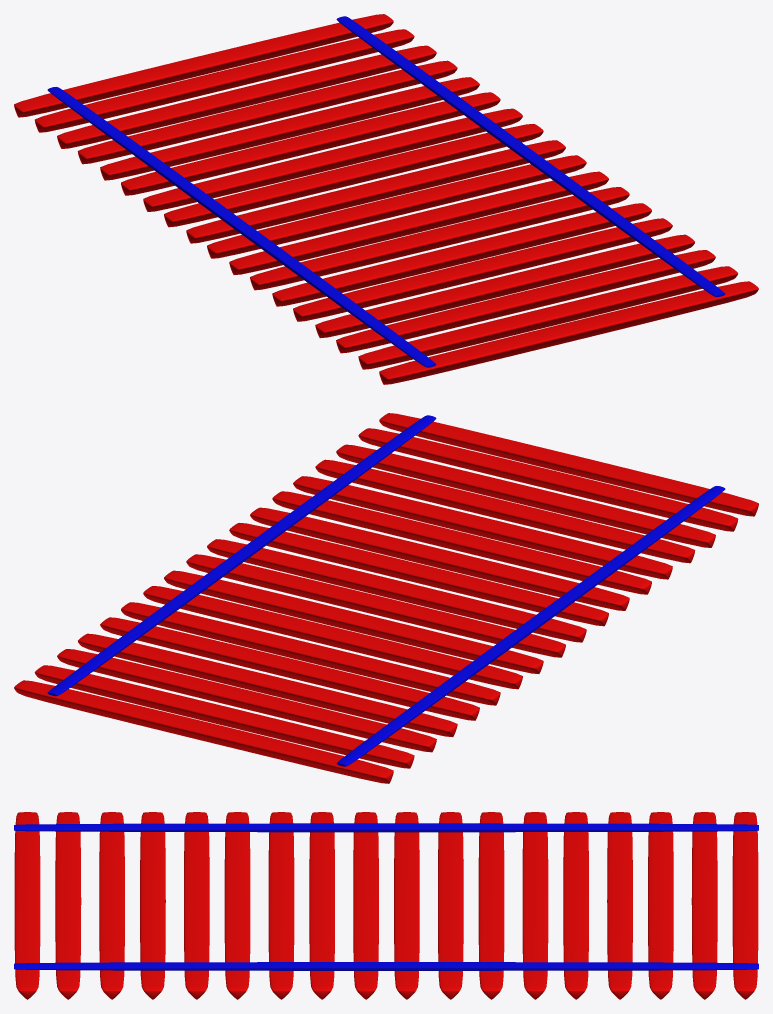
Rendered from Makisu_1_high.fbx.
3 views of the same model, one above another, from view 1: azimuth 30°, elevation 25°; view 2: azimuth 150°, elevation 25°; view 3: azimuth 270°, elevation 25° (orthographic).
Parts seen in each view (by area): view 1: Makisu_1_high; view 2: Makisu_1_high; view 3: Makisu_1_high.
Boxes of the visible parts, x1,y1,x2,y2 form: Makisu_1_high: [14, 14, 758, 384]; Makisu_1_high: [14, 413, 758, 783]; Makisu_1_high: [14, 812, 758, 999].
Bounding box in the file's own units: 0.2995 × 0.0137 × 0.5272.
